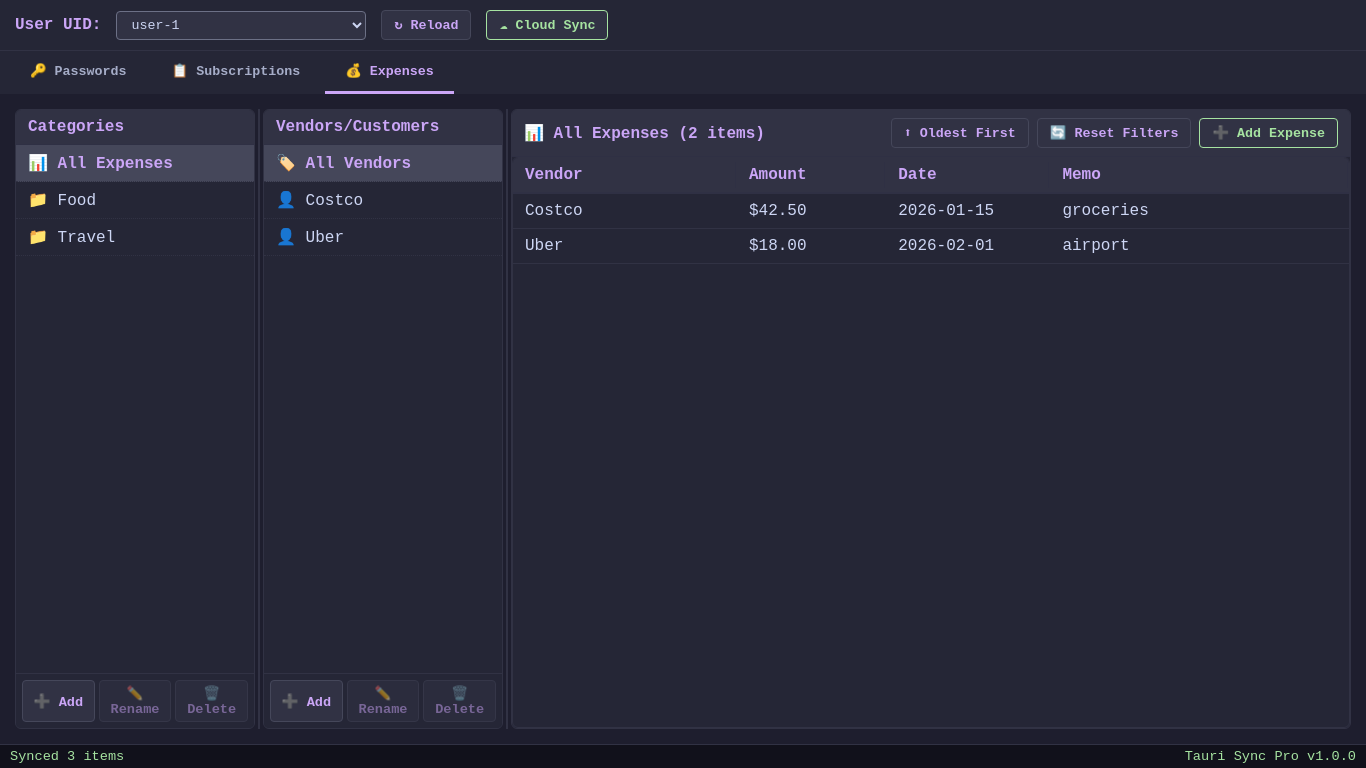
Test case: Subscriptions tab › lists, searches, filters, and sorts subscriptions
Click the button "📋 Subscriptions" at point(236, 72), box [152,51,320,94]
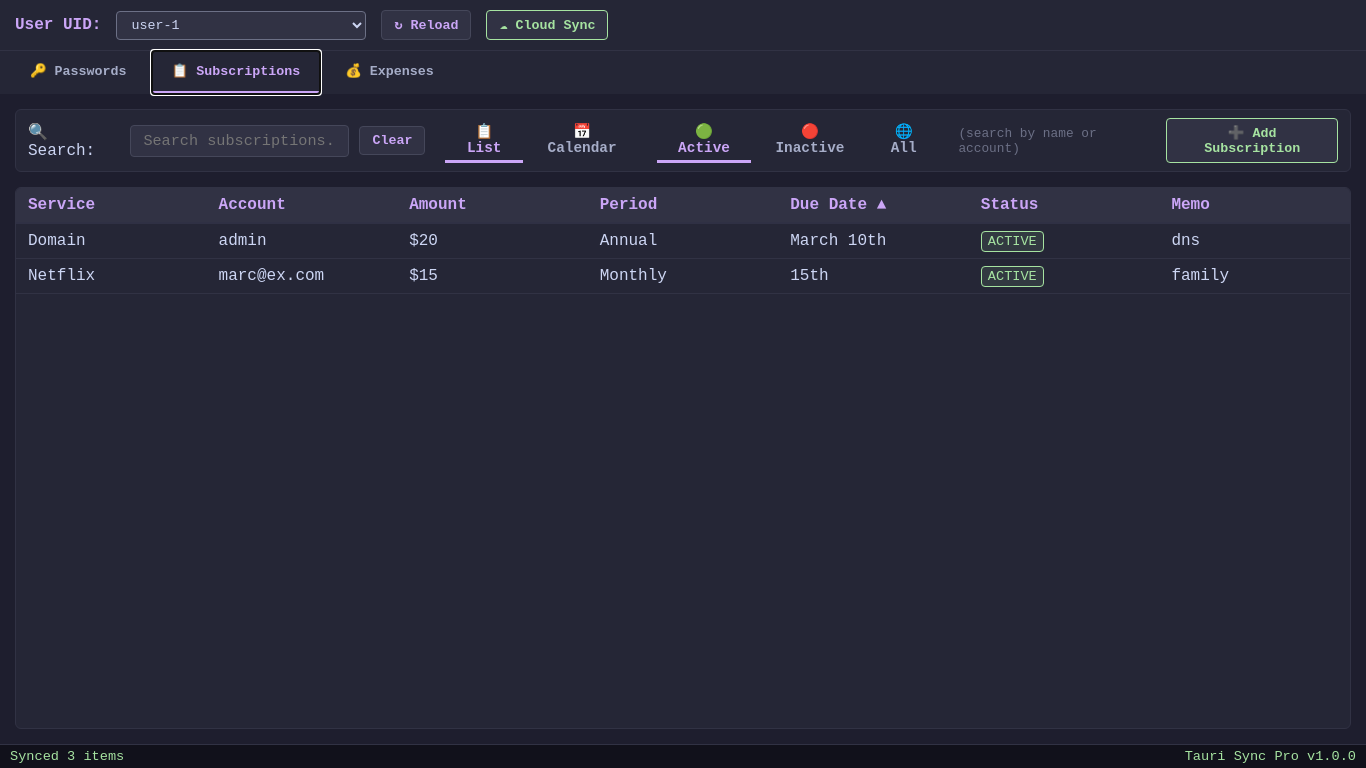
expect the text "Adobe" is not shown: met
expect the text "Netflix" is shown: met, box [16,258,207,294]
Click the button "🔴 Inactive" at point(810, 140), box [755,118,865,162]
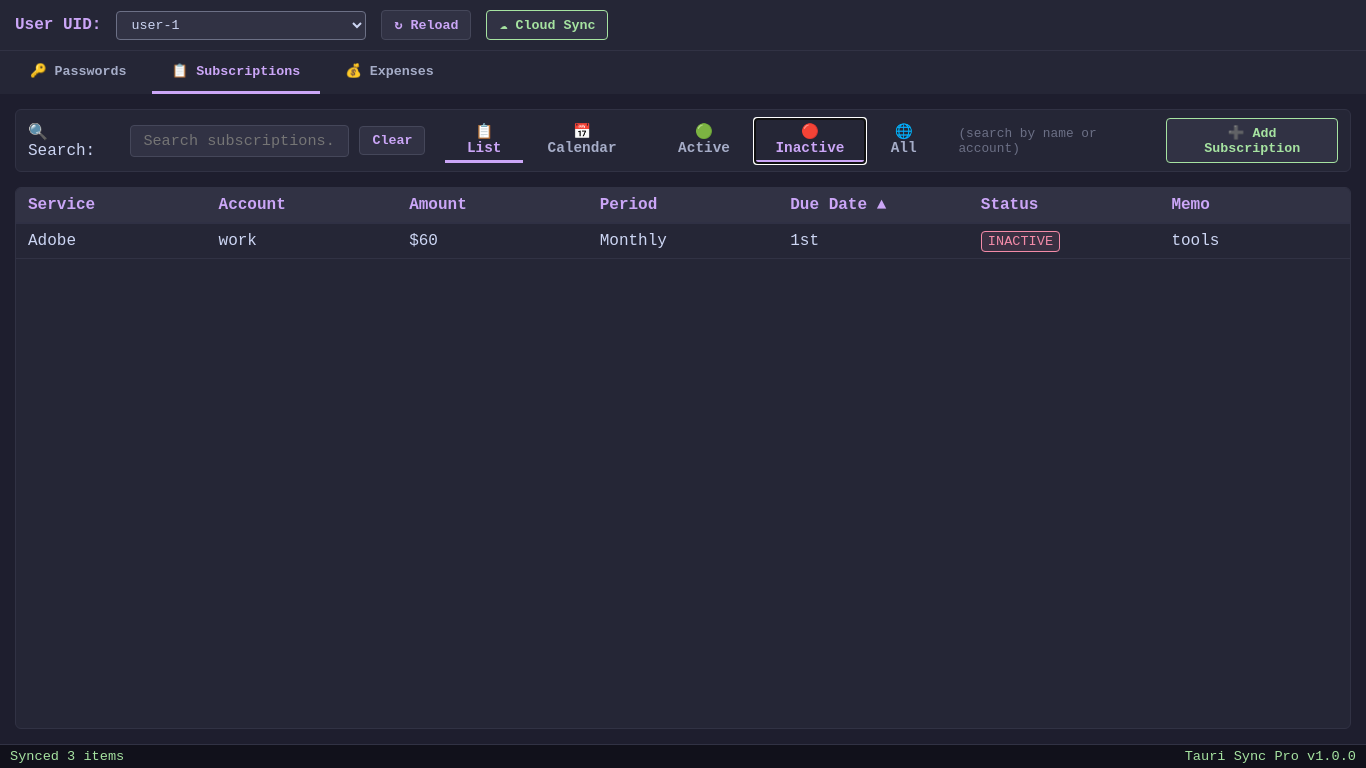
expect the text "Adobe" is shown: met, box [16,223,207,258]
expect the text "Netflix" is gone: met
Click the button "🌐 All" at point(904, 140), box [869,118,938,162]
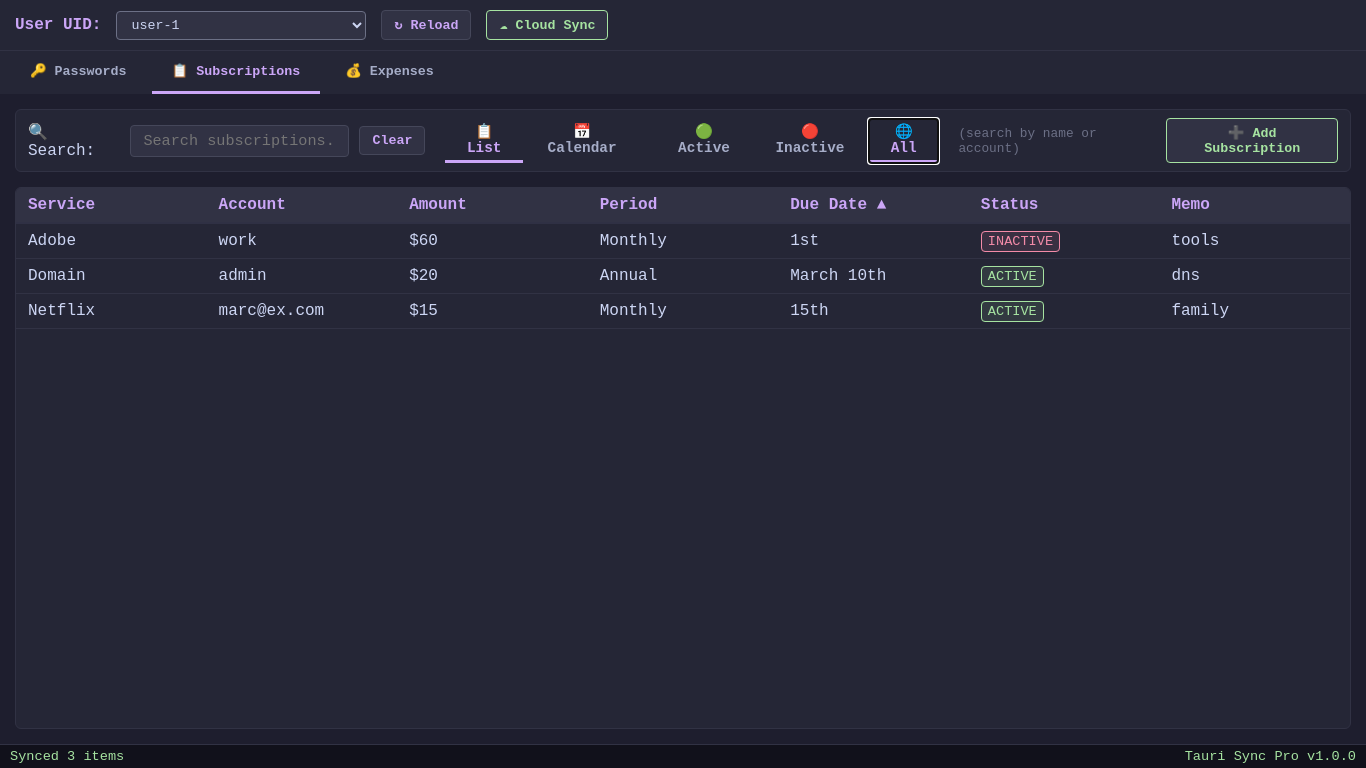
expect the text "Adobe" is shown: met, box [16,223,207,258]
expect the text "Netflix" is shown: met, box [16,294,207,328]
Type "net" into the field with placeholder "Search subscriptions..." at point(240, 140), box [130,124,349,156]
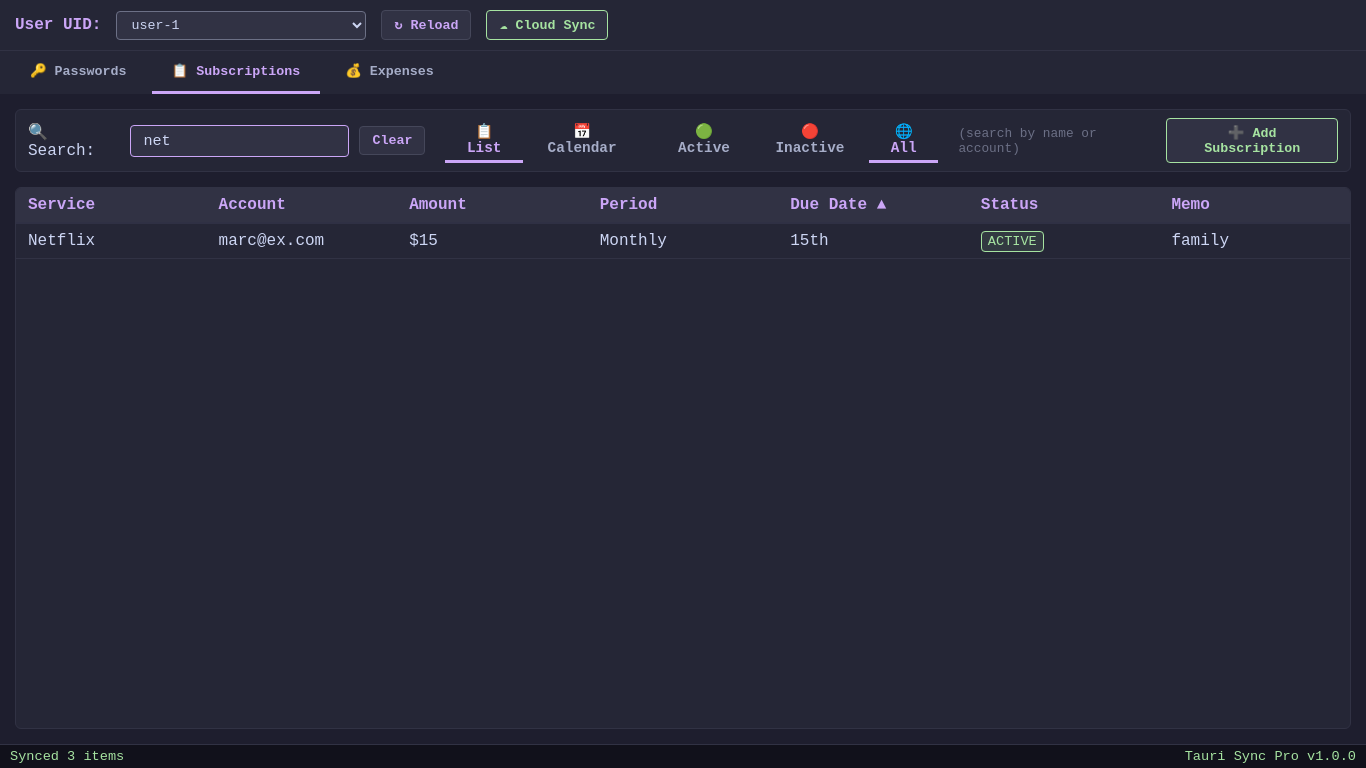
expect the text "Netflix" is shown: met, box [16,223,207,258]
expect the text "Adobe" is gone: met
Click the button "Clear" at point(392, 140), box [359,126,425,155]
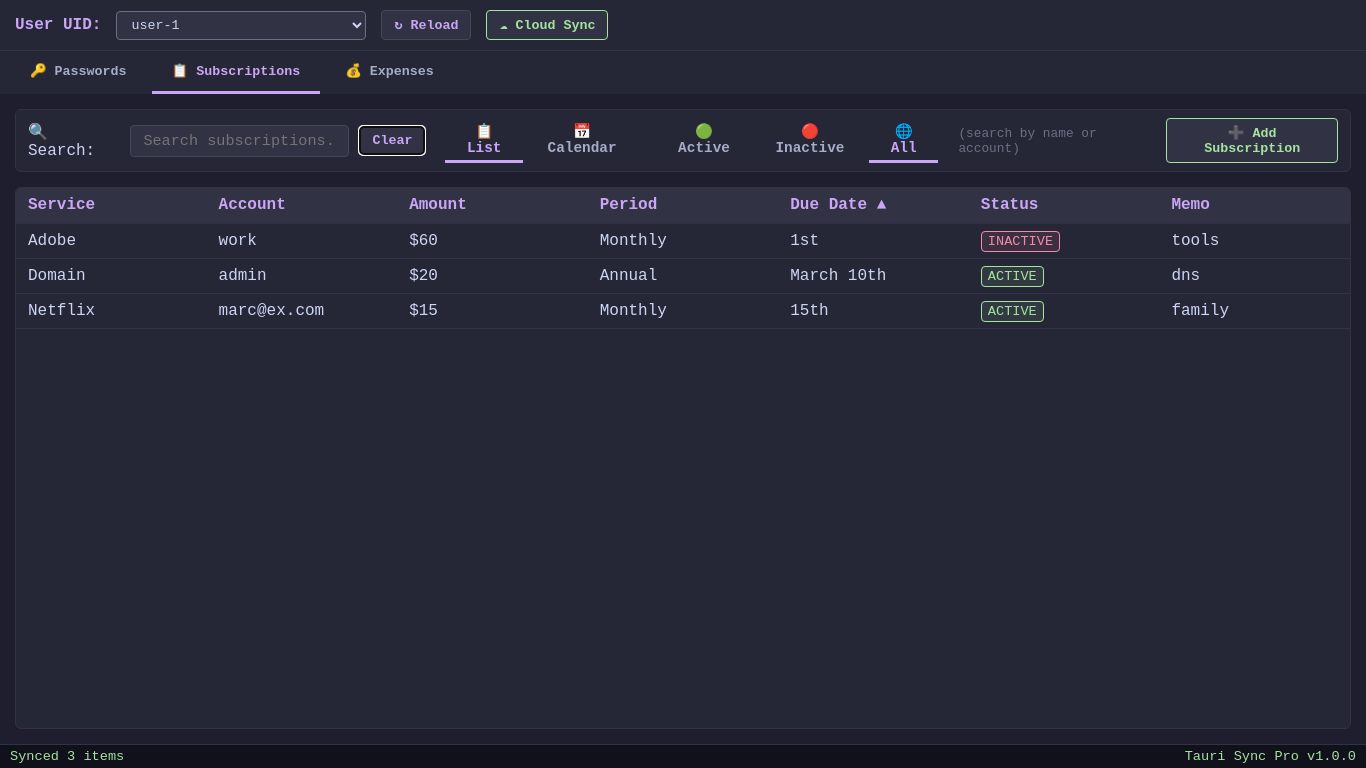
Click the column heading "Due Date ▲" at point(874, 206), box [778,188,969,223]
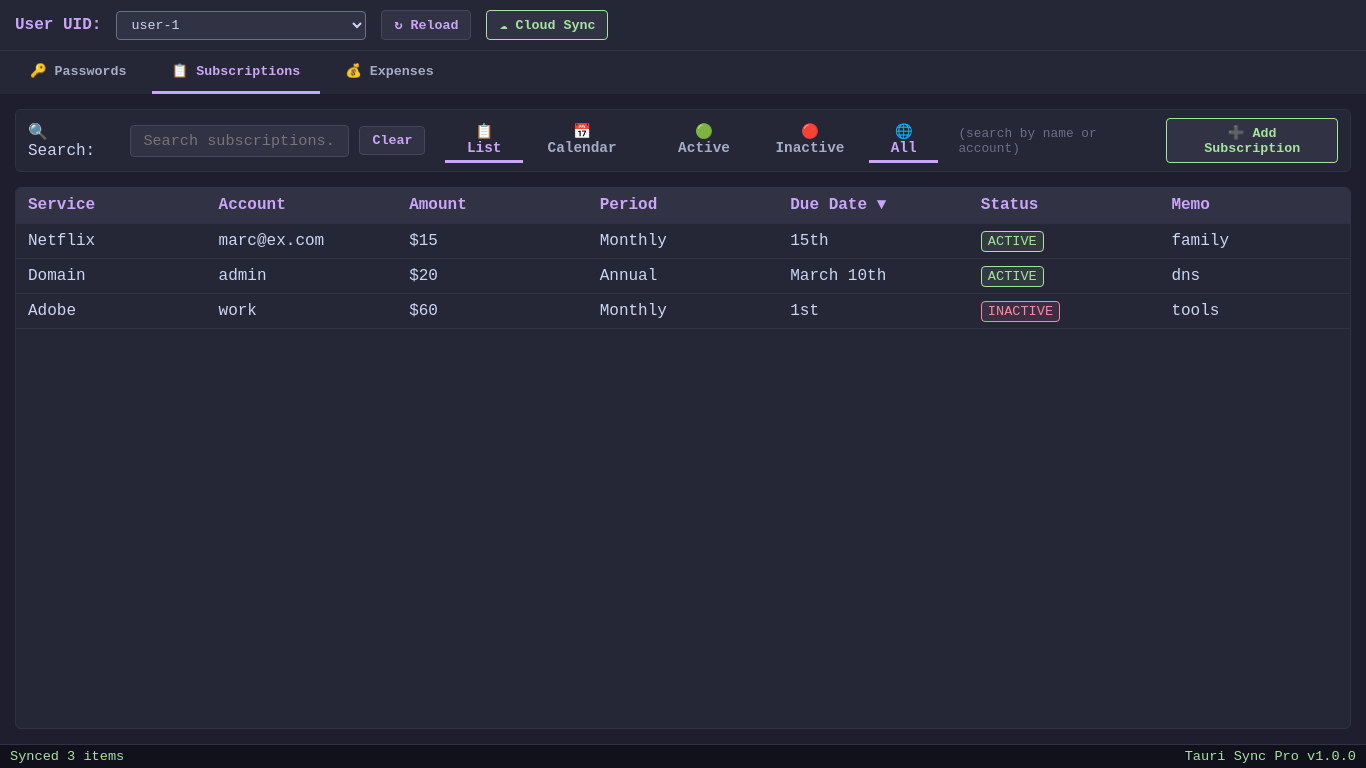
expect the column heading "Due Date ▼" is shown: met, box [778,188,969,223]
